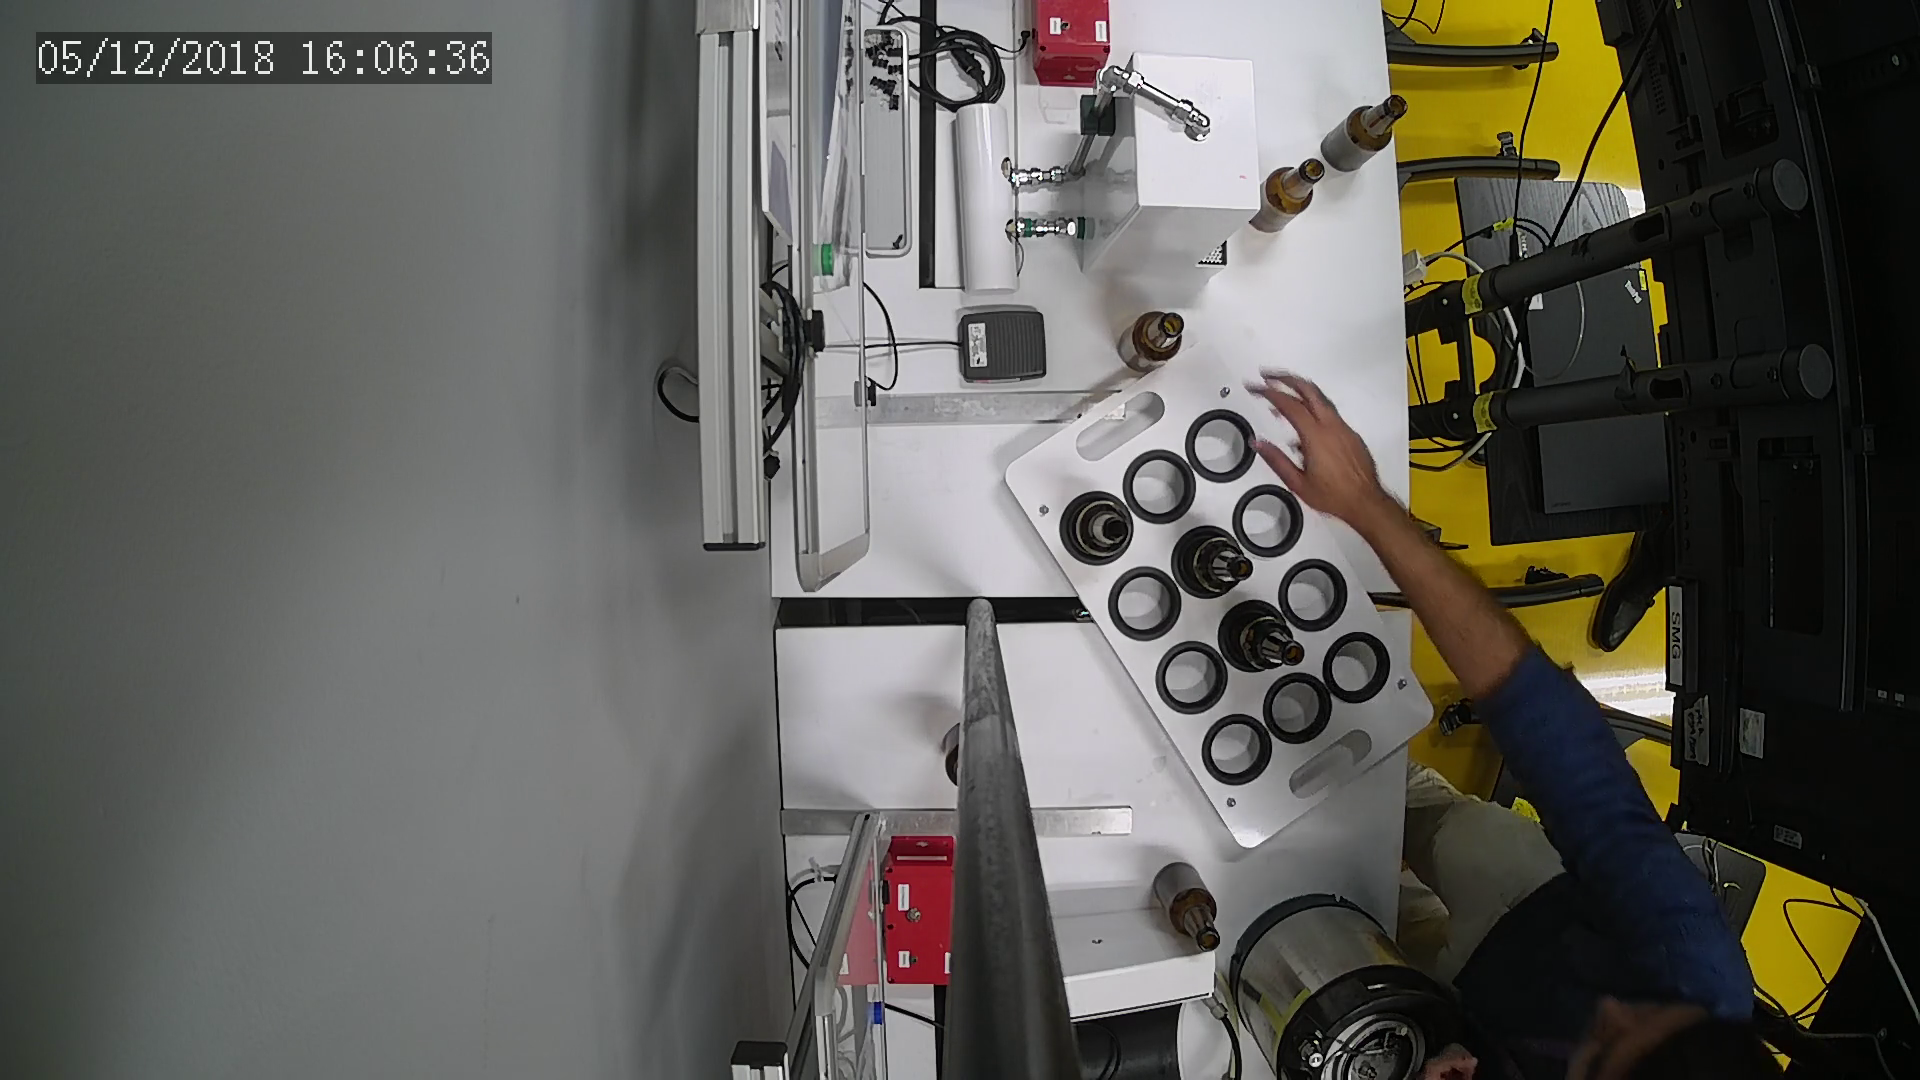filled_bottle: (1174, 524, 1254, 599), (1226, 603, 1303, 674), (1064, 491, 1131, 560)
trolley: (1006, 340, 1439, 851)
unfilled_bottle: (1323, 88, 1408, 171), (1149, 862, 1220, 951), (1253, 160, 1324, 233), (1118, 311, 1189, 375)
